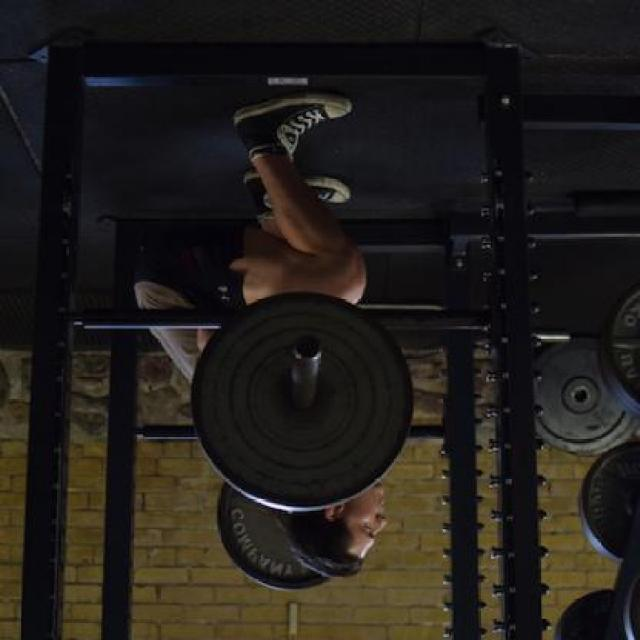Barbell: (286, 330, 326, 364)
